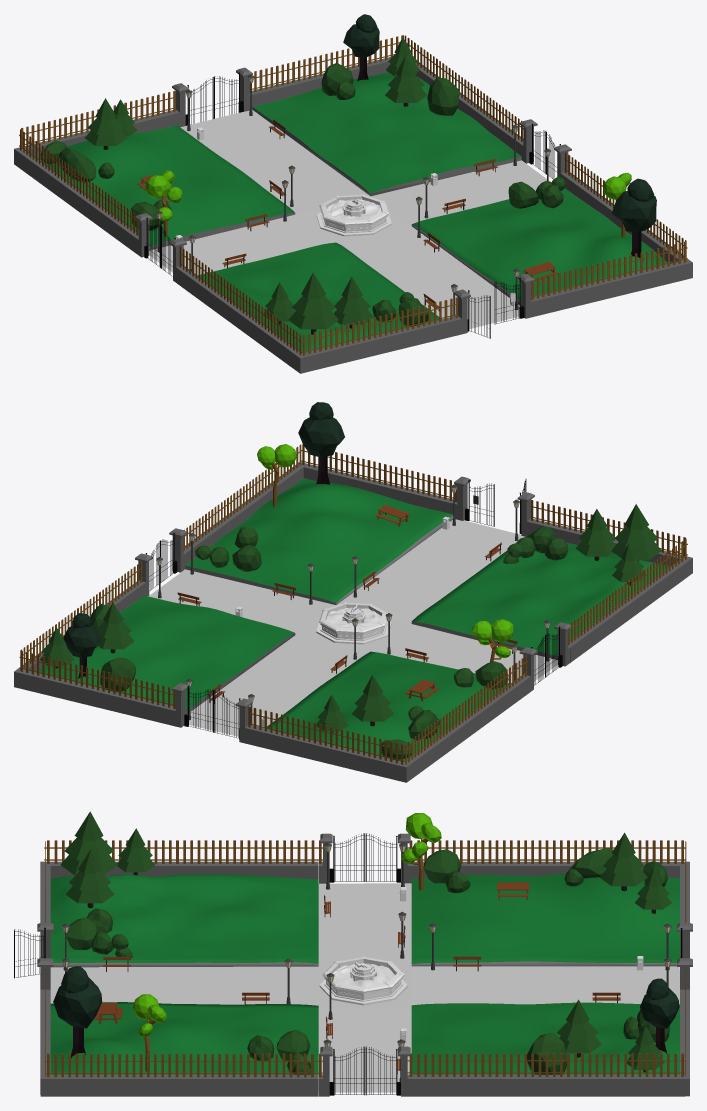
Rendered from parque.fbx.
3 views of the same model, one above another, from view 1: azimuth 30°, elevation 25°; view 2: azimuth 150°, elevation 25°; view 3: azimuth 270°, elevation 25° (orthographic). The views are drawn at different scales.
Parts seen in each view (by area): view 1: terriccio, terriccio.001, MURO, abete, prova2.004, prova.002, prova.003, prova2, prova2.003, Icosphere.009, prova.004, prova (+14 smaller); view 2: terriccio, terriccio.001, MURO, abete, prova2, prova, prova.004, prova2.004, prova.002, prova2.002, Icosphere.009, prova2.003 (+14 smaller); view 3: terriccio, terriccio.001, MURO, abete, prova2.002, prova2.003, prova2, prova2.004, Icosphere.009, barre verticali.003, barre verticali.002, Icosphere.010 (+12 smaller).
Boxes of the visible parts, left/top/right/bottom form: terriccio: left=37, top=72, right=667, bottom=352; terriccio.001: left=149, top=110, right=550, bottom=328; MURO: left=14, top=57, right=692, bottom=373; abete: left=85, top=37, right=427, bottom=334; prova2.004: left=179, top=246, right=302, bottom=355; prova.002: left=531, top=241, right=686, bottom=299; prova.003: left=302, top=297, right=458, bottom=355; prova2: left=19, top=129, right=138, bottom=235; prova2.003: left=404, top=35, right=523, bottom=141; Icosphere.009: left=612, top=178, right=656, bottom=232; prova.004: left=249, top=35, right=403, bottom=93; prova: left=21, top=90, right=176, bottom=147; terriccio: left=36, top=478, right=668, bottom=761; terriccio.001: left=148, top=519, right=557, bottom=736; MURO: left=14, top=462, right=692, bottom=782; abete: left=39, top=504, right=661, bottom=733; prova2: left=404, top=655, right=527, bottom=764; prova: left=248, top=706, right=404, bottom=764; prova.004: left=20, top=650, right=175, bottom=708; prova2.004: left=568, top=538, right=687, bottom=645; prova.002: left=302, top=444, right=457, bottom=502; prova2.002: left=183, top=444, right=301, bottom=550; Icosphere.009: left=298, top=402, right=344, bottom=457; prova2.003: left=19, top=561, right=142, bottom=670; terriccio: left=50, top=873, right=679, bottom=1074; terriccio.001: left=50, top=883, right=679, bottom=1092; MURO: left=37, top=833, right=692, bottom=1096; abete: left=60, top=811, right=671, bottom=1072; prova2.002: left=45, top=1053, right=322, bottom=1077; prova2.003: left=407, top=1053, right=686, bottom=1076; prova2: left=407, top=840, right=685, bottom=863; prova2.004: left=44, top=840, right=322, bottom=863; Icosphere.009: left=53, top=966, right=102, bottom=1028; barre verticali.003: left=329, top=833, right=400, bottom=882; barre verticali.002: left=329, top=1046, right=400, bottom=1095; Icosphere.010: left=640, top=978, right=679, bottom=1028.
Bounding box in the file's own units: 106 × 24.38 × 139.
